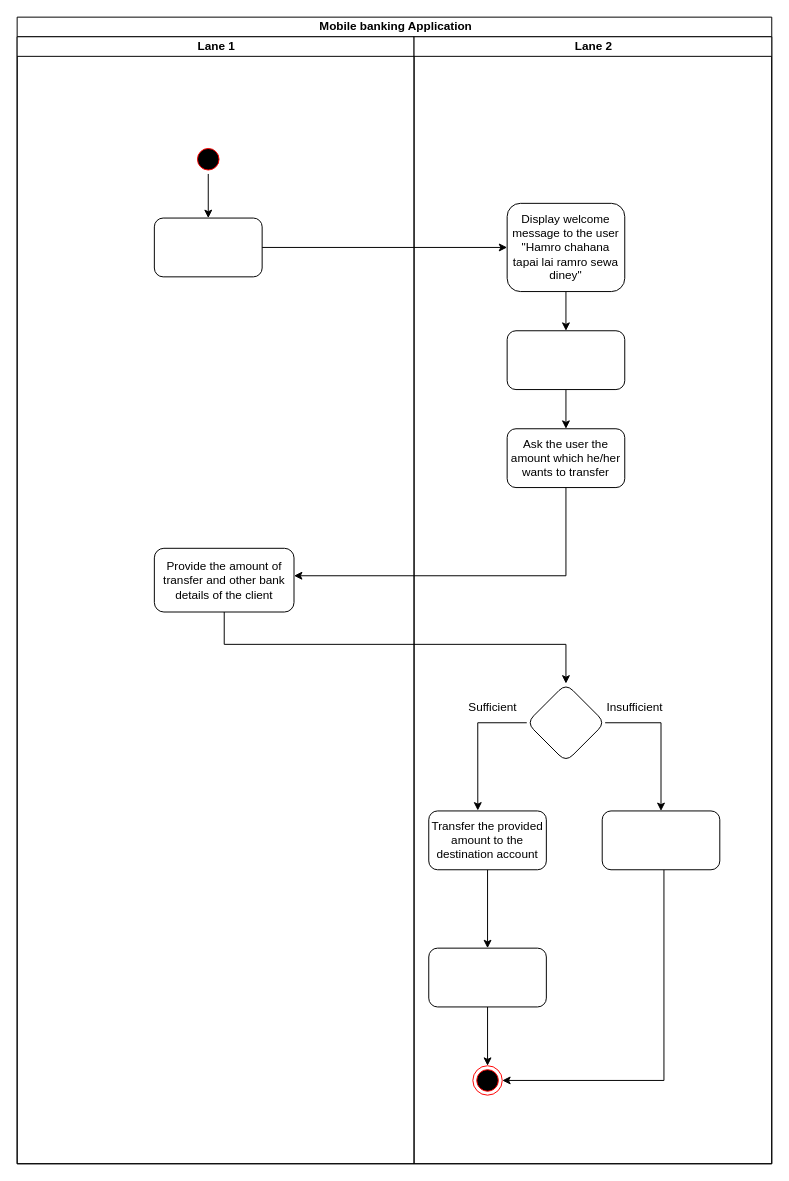
The diagram is 789 pixels wide and 1181 high, and some of its shapes have lost their labels. The centre of each missing label's shape, as x and y in pixels:
"Check the amount of the user" belongs at [565,360].
"Display insufficient balance" belongs at [660,840].
"Login to the baking application with user credentials" belongs at [207,247].
"print the bank statement and provide it to the user" belongs at [487,977].
